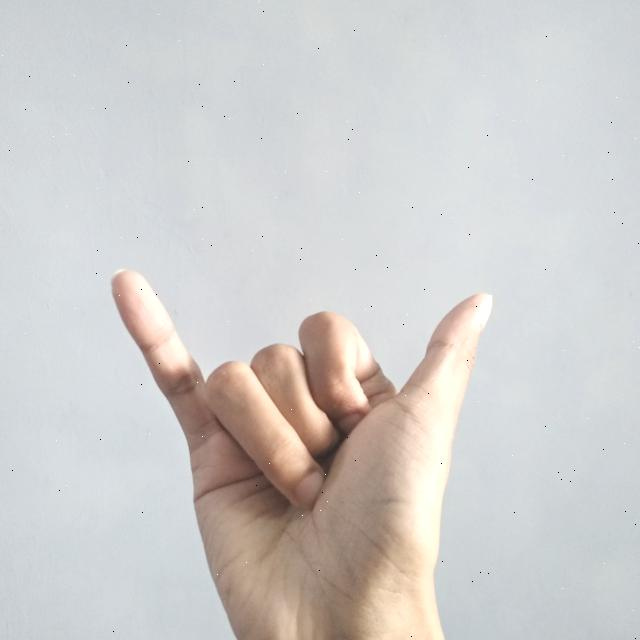Y: (101, 260, 498, 640)
